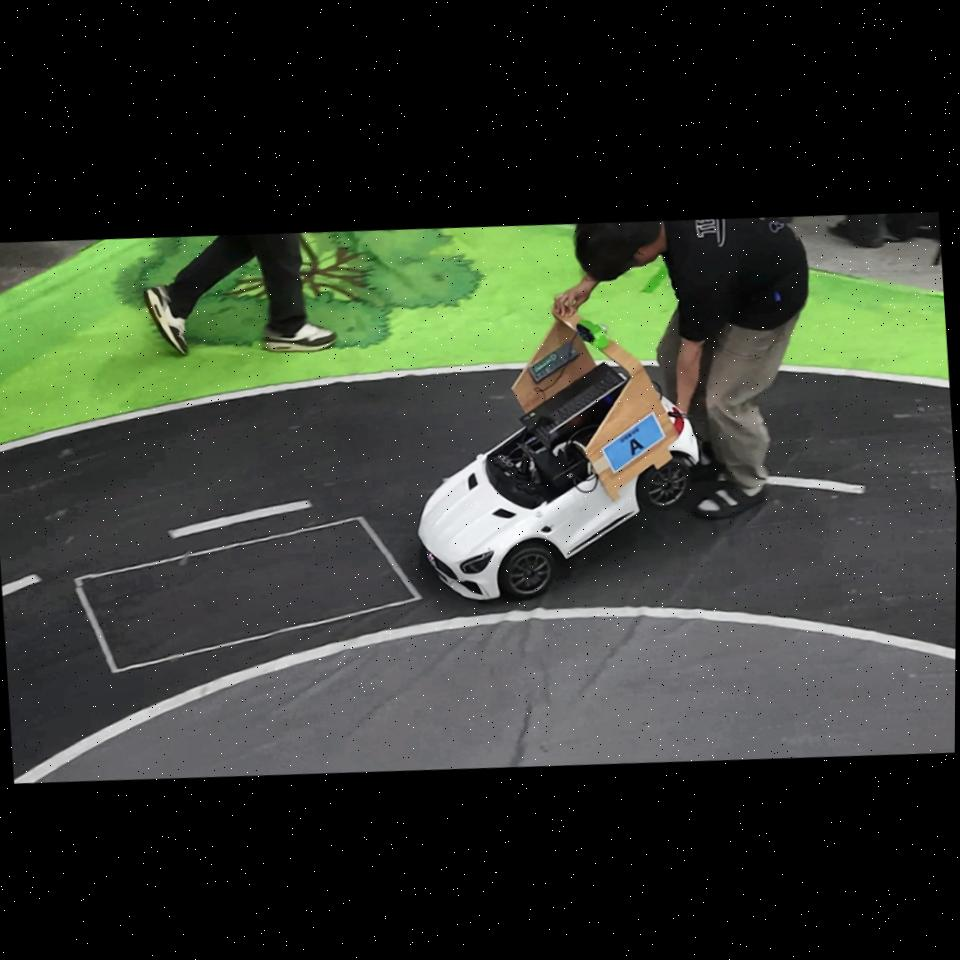broken_line: (167, 500, 312, 539), (768, 476, 866, 494), (2, 574, 42, 596)
